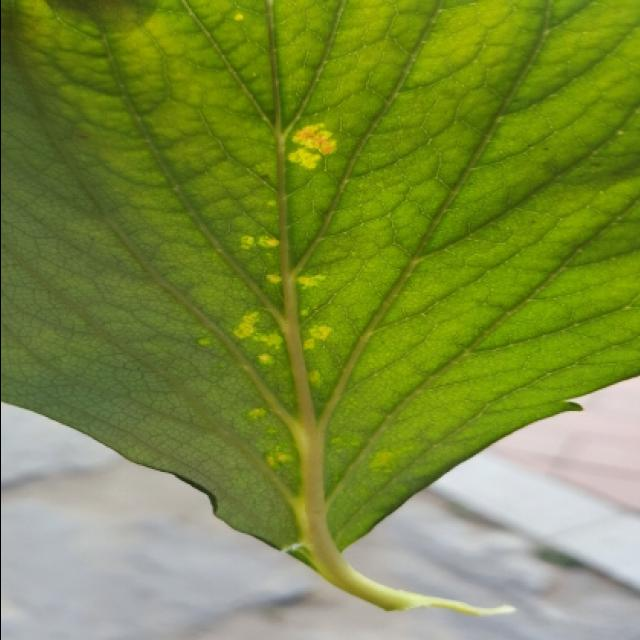Angular Leafspot: (196, 7, 342, 481)
